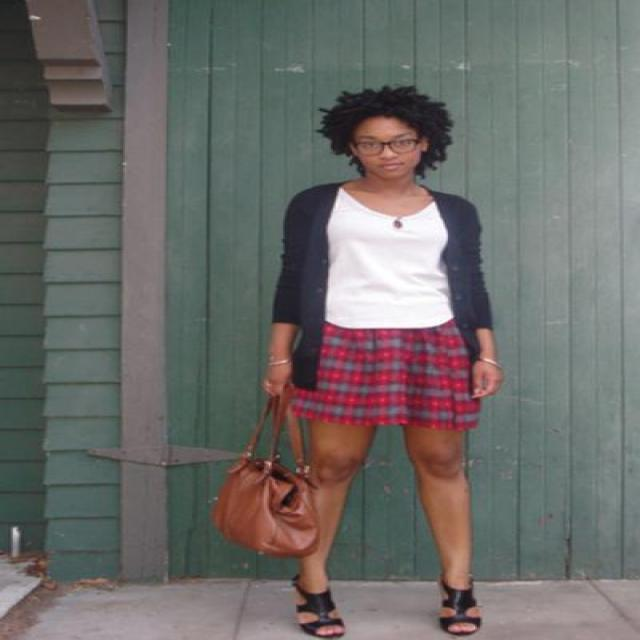bag: (216, 456, 310, 554)
jacket: (272, 182, 491, 390)
shirt: (325, 192, 453, 327)
shoe: (294, 568, 478, 639)
skirt: (288, 320, 482, 436)
